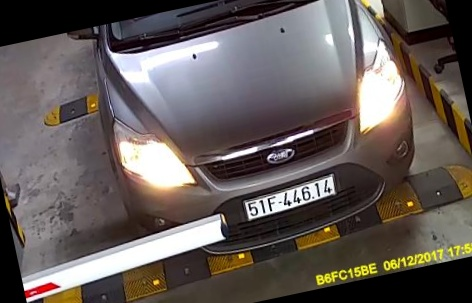plate: (230, 171, 347, 228)
